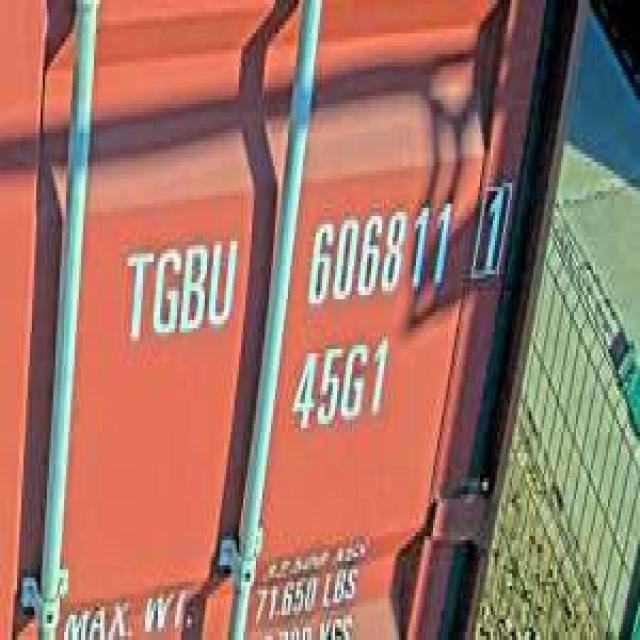dv: (467, 166, 514, 287)
owner: (117, 225, 239, 349)
serial: (303, 191, 454, 312)
size: (286, 328, 392, 436)
